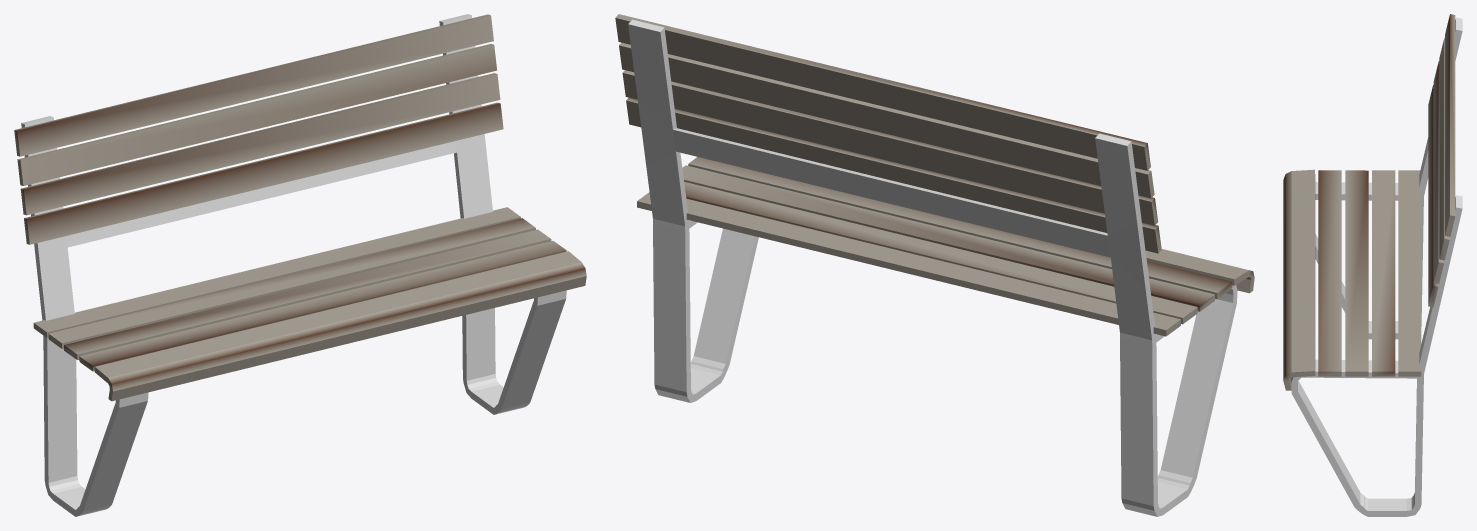
The model's file is CenarioFase1.fbx.
3 renders of one model, left to right at view 1: azimuth 30°, elevation 25°; view 2: azimuth 150°, elevation 25°; view 3: azimuth 270°, elevation 25°, orthographic. The views are drawn at different scales.
Parts seen in each view (by area): view 1: Madeiras, banco; view 2: Madeiras, banco; view 3: Madeiras, banco.
Boxes of the visible parts, x1=… form: Madeiras: x1=14, y1=14, x2=586, y2=401; banco: x1=21, y1=14, x2=566, y2=516; Madeiras: x1=615, y1=14, x2=1254, y2=336; banco: x1=628, y1=19, x2=1237, y2=516; Madeiras: x1=1283, y1=14, x2=1455, y2=390; banco: x1=1291, y1=17, x2=1462, y2=516.
Bounding box in the file's own units: 550 × 394 × 207.
